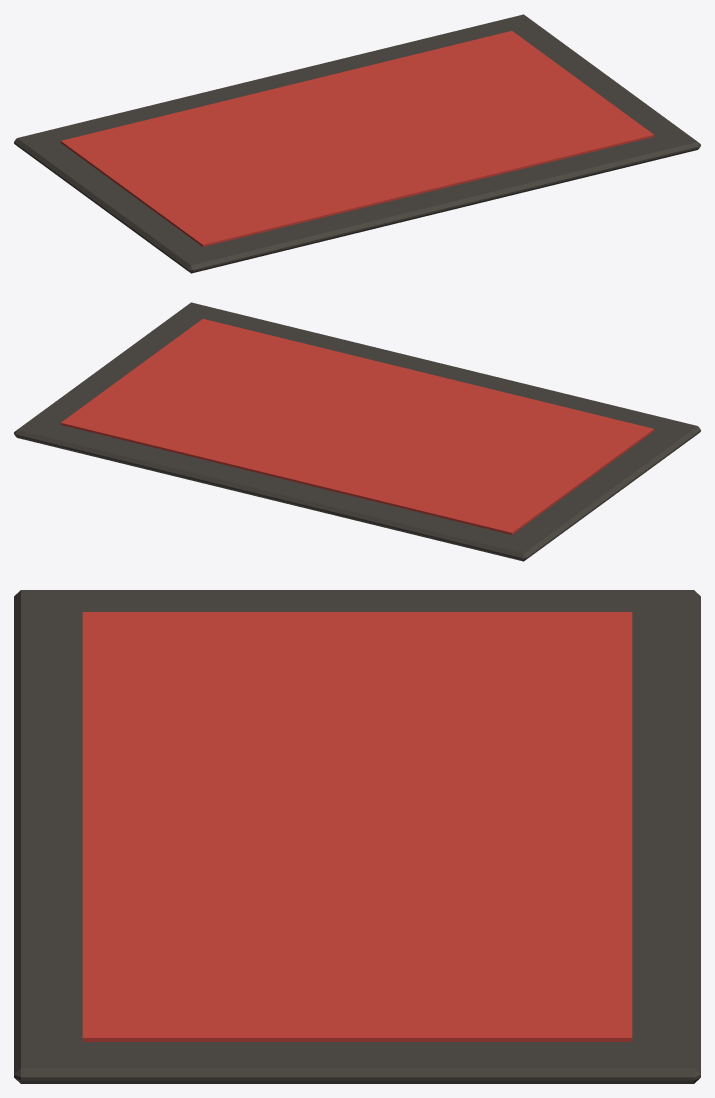
File: mat_floor.glb
3 views of the same model, one above another, from view 1: azimuth 30°, elevation 25°; view 2: azimuth 150°, elevation 25°; view 3: azimuth 270°, elevation 25° (orthographic). The views are drawn at different scales.
Parts seen in each view (by area): view 1: mat_floor; view 2: mat_floor; view 3: mat_floor.
Part boxes in pixels (left/top/right/bottom): mat_floor: left=14, top=14, right=700, bottom=273; mat_floor: left=14, top=302, right=700, bottom=561; mat_floor: left=14, top=590, right=700, bottom=1083.
Bounding box in the file's own units: 1 × 0.019 × 0.6.
